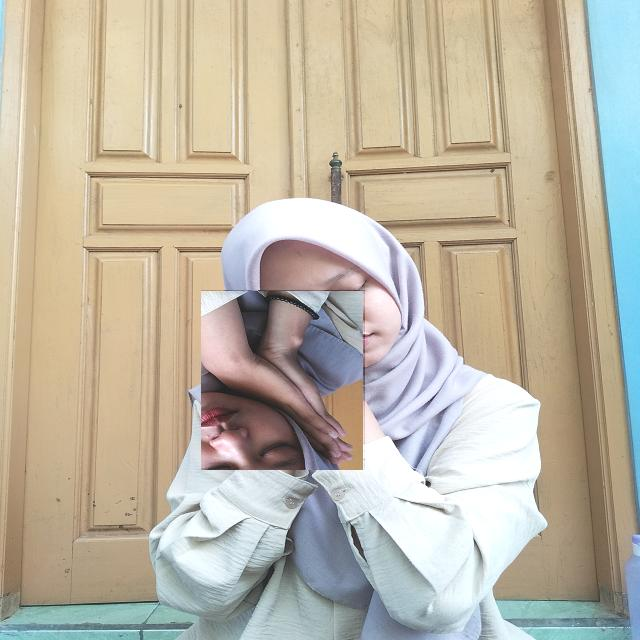tidur: (202, 290, 366, 470)
